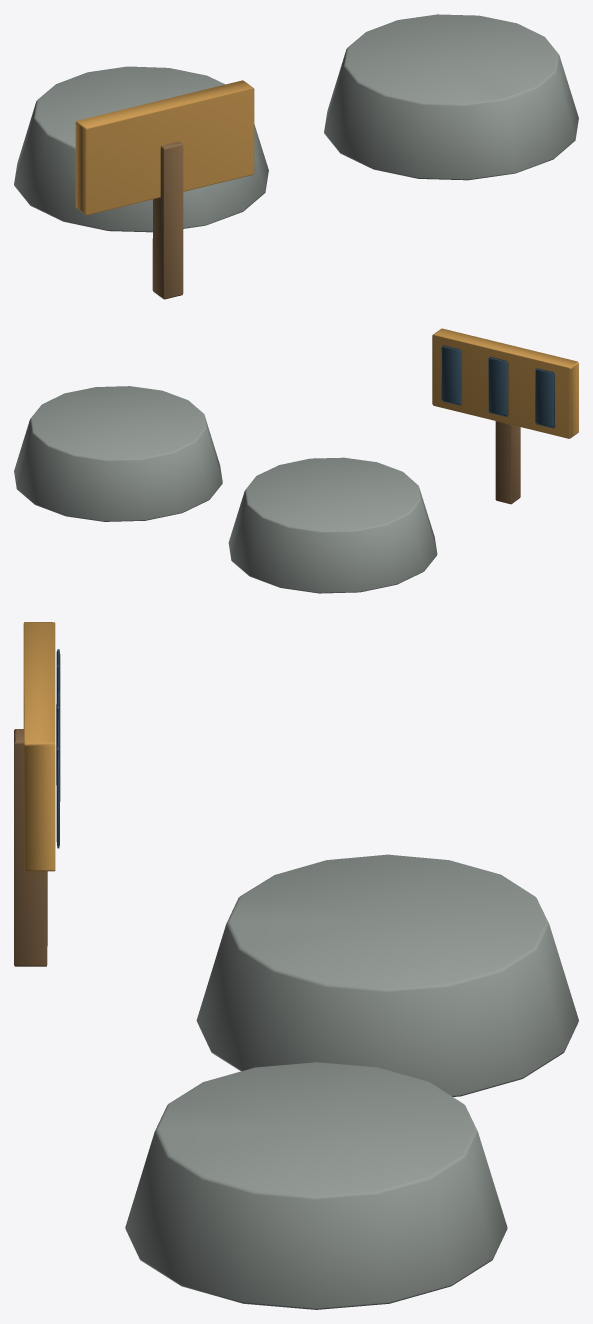
Rendered from stepstones_stage1.glb.
The picture shows the model from 3 angles, top to bottom: view 1: azimuth 30°, elevation 25°; view 2: azimuth 150°, elevation 25°; view 3: azimuth 270°, elevation 25°; orthographic projection. The views are drawn at different scales.
Size of the model in its own units: 2.21 by 0.69 by 1.27.
